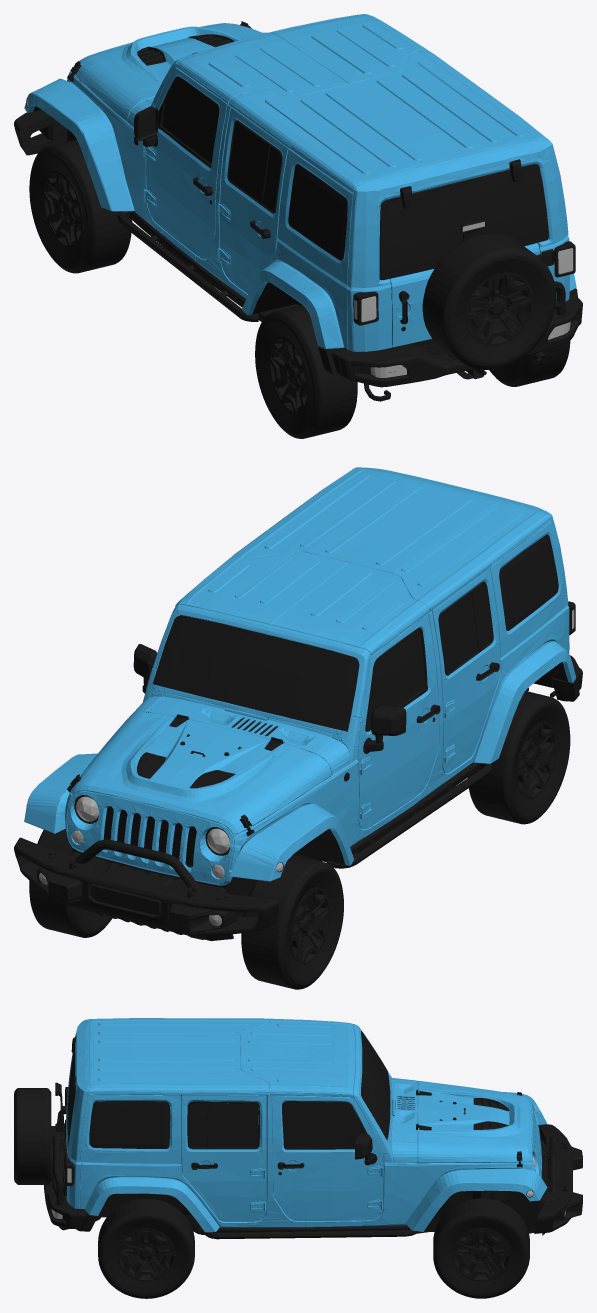
The model's file is newjeepbm_skyblue.glb.
The picture shows the model from 3 angles, top to bottom: view 1: azimuth 30°, elevation 25°; view 2: azimuth 150°, elevation 25°; view 3: azimuth 270°, elevation 25°; orthographic projection. The views are drawn at different scales.
Visible parts, largest first — view 1: front_2.004; view 2: front_2.004; view 3: front_2.004.
Part boxes in pixels (bbox=[...]): front_2.004: bbox=[14, 14, 582, 438]; front_2.004: bbox=[14, 467, 582, 989]; front_2.004: bbox=[14, 1018, 582, 1298].
Size of the model in its own units: 1.97 by 1.94 by 4.89.
